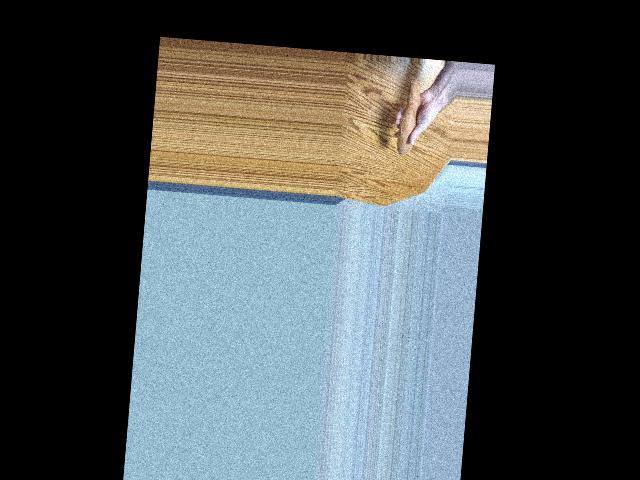sweet_potato: (395, 77, 425, 160)
